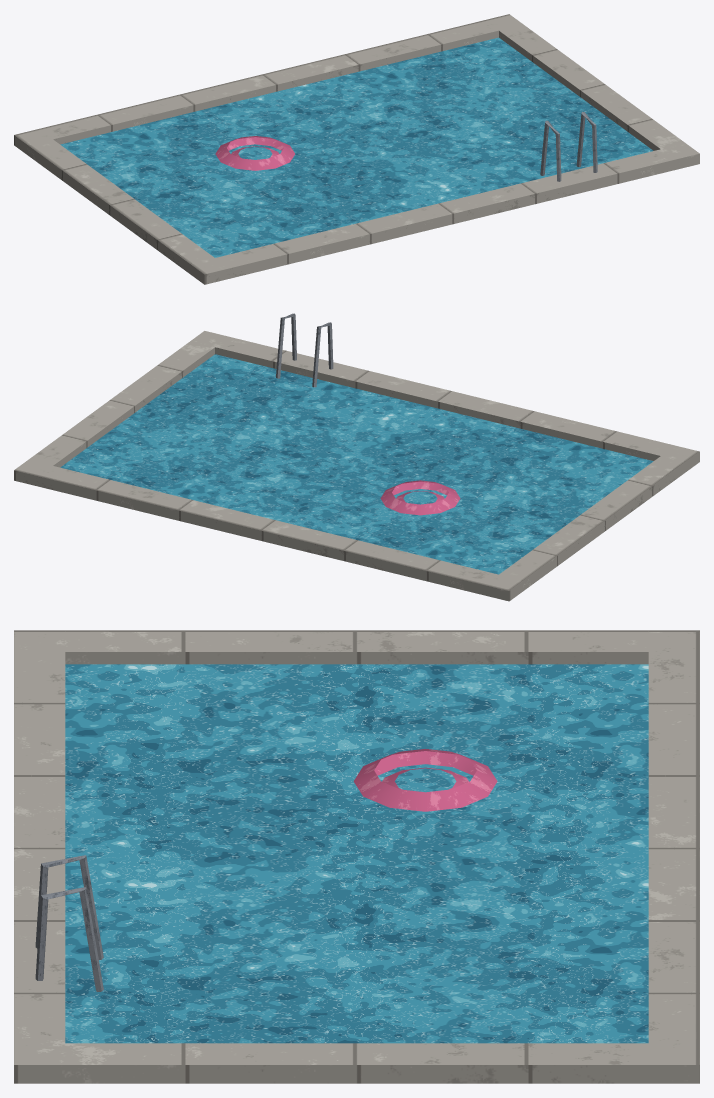
Rendered from pool.glb.
The picture shows the model from 3 angles, top to bottom: view 1: azimuth 30°, elevation 25°; view 2: azimuth 150°, elevation 25°; view 3: azimuth 270°, elevation 25°; orthographic projection. The views are drawn at different scales.
Visible parts, largest first — view 1: Prop; view 2: Prop; view 3: Prop.
Part boxes in pixels (<box>): Prop: <box>14,14,699,284</box>; Prop: <box>14,313,699,601</box>; Prop: <box>14,630,699,1083</box>.
Bounding box in the file's own units: 6 × 0.7115 × 4.
Materials: 4 (4 with a texture image).
